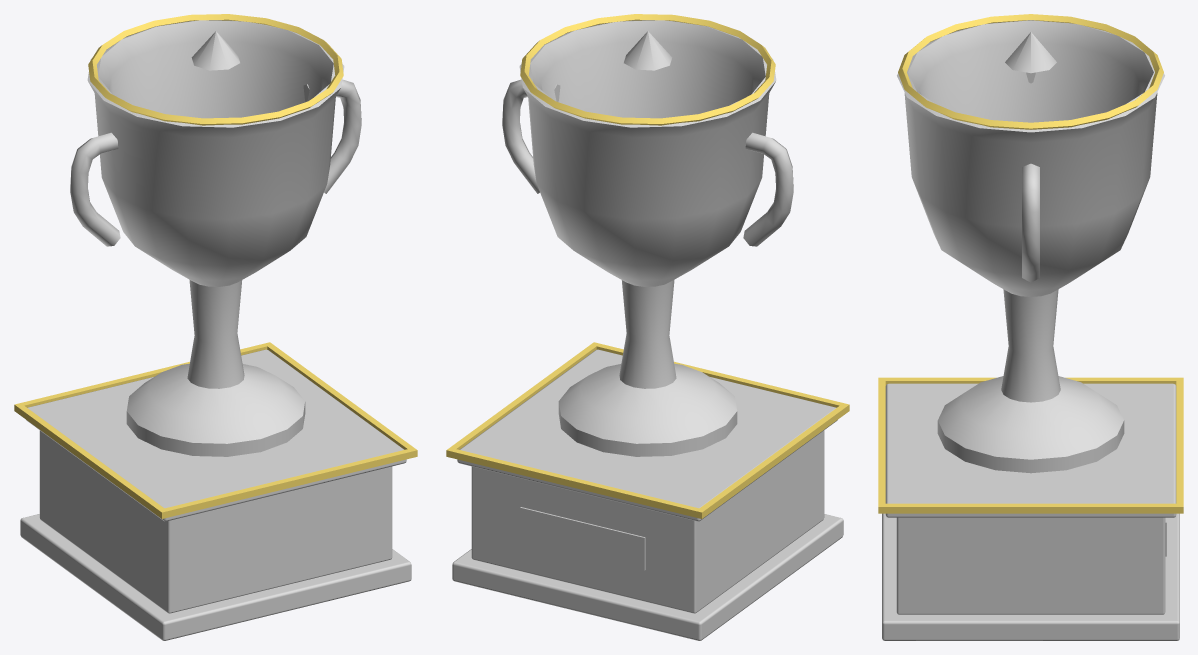
The model's file is HallTrophy.glb.
3 views of the same model, side by side, from view 1: azimuth 30°, elevation 25°; view 2: azimuth 150°, elevation 25°; view 3: azimuth 270°, elevation 25° (orthographic). The views are drawn at different scales.
Visible parts, largest first — view 1: Body, Glow; view 2: Body, Glow; view 3: Body, Glow.
Part boxes in pixels (x1,y1,x2,y2): Body: (20,20,411,640); Glow: (14,14,417,518); Body: (452,20,843,640); Glow: (446,14,849,518); Body: (882,20,1179,640); Glow: (878,14,1183,513).
Size of the model in its own units: 9.34 by 16.2 by 8.2.
